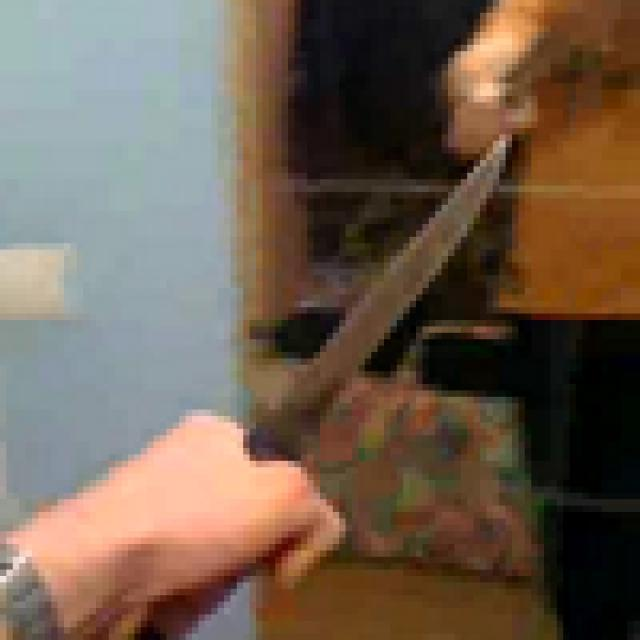knife: (199, 128, 551, 576)
